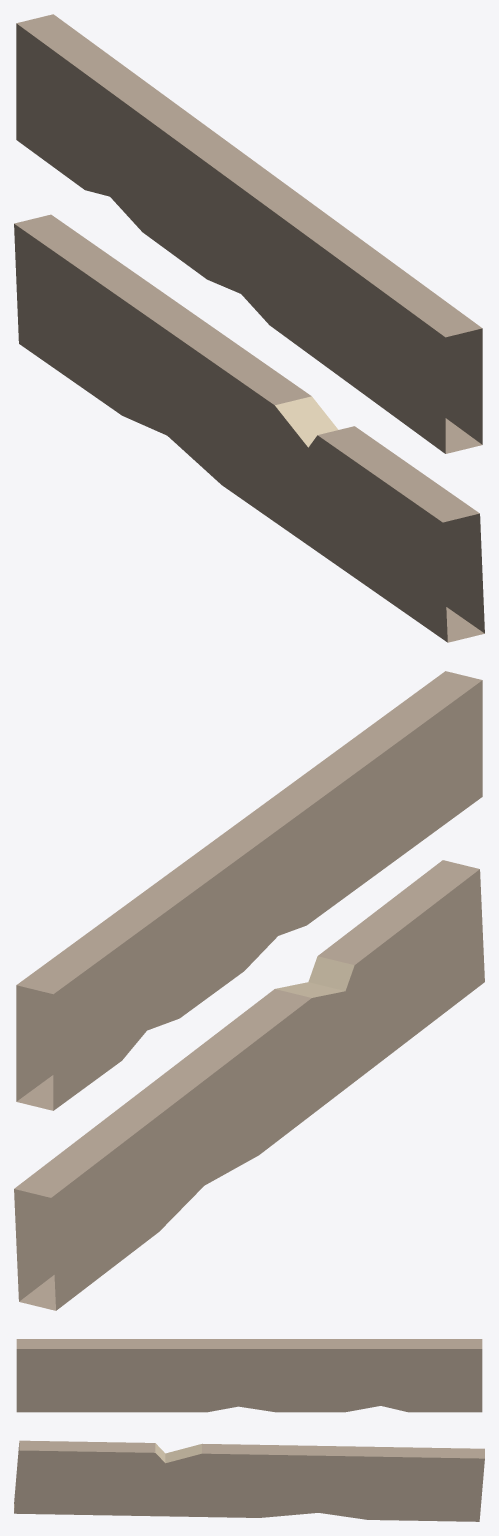
The model's file is Cave_Prop_Support_Wall_Boards_4.glb.
3 views of the same model, one above another, from view 1: azimuth 30°, elevation 25°; view 2: azimuth 150°, elevation 25°; view 3: azimuth 270°, elevation 25° (orthographic). The views are drawn at different scales.
Visible parts, largest first — view 1: Cave_Prop_Support_Wall_Boards_4; view 2: Cave_Prop_Support_Wall_Boards_4; view 3: Cave_Prop_Support_Wall_Boards_4.
Part boxes in pixels (x1,y1,x2,y2): Cave_Prop_Support_Wall_Boards_4: (14,14,484,642); Cave_Prop_Support_Wall_Boards_4: (14,671,484,1310); Cave_Prop_Support_Wall_Boards_4: (14,1339,484,1521).
Bounding box in the file's own units: 0.053 × 0.4341 × 1.07.
